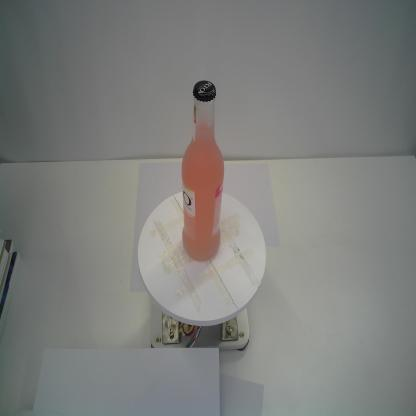Alcohol: (179, 78, 225, 266)
